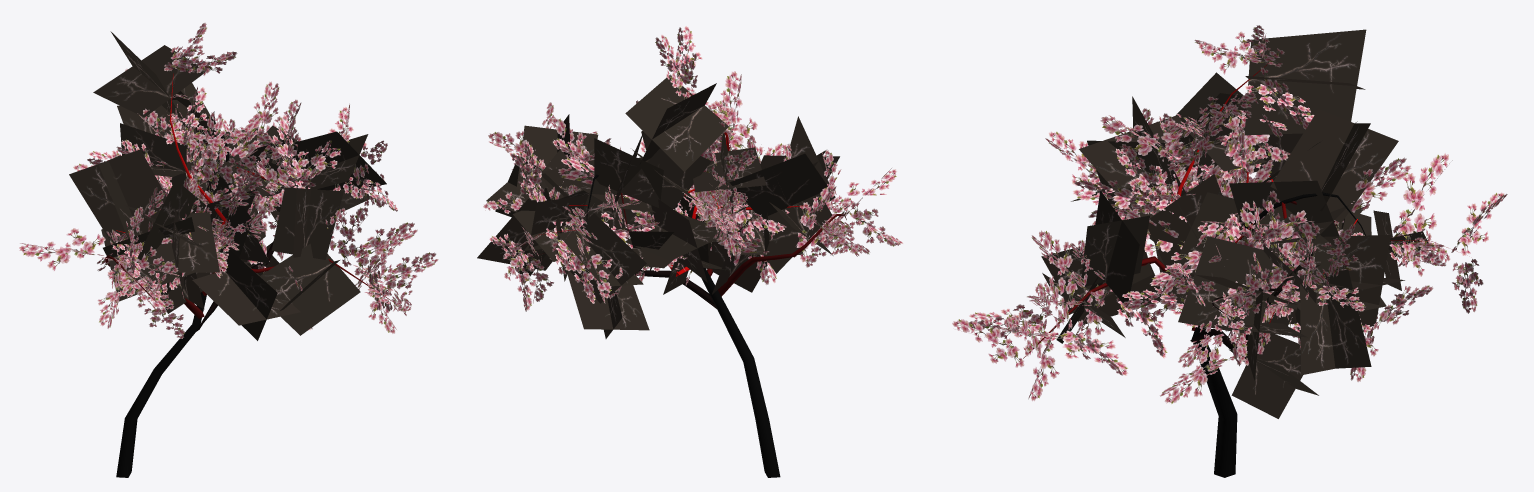
File: sakura2 lod1.FBX
3 views of the same model, side by side, from view 1: azimuth 30°, elevation 25°; view 2: azimuth 150°, elevation 25°; view 3: azimuth 270°, elevation 25° (orthographic). The views are drawn at different scales.
Visible parts, largest first — view 1: sakura2_LOD1; view 2: sakura2_LOD1; view 3: sakura2_LOD1.
Part boxes in pixels (bbox=[...]): sakura2_LOD1: bbox=[19, 22, 438, 477]; sakura2_LOD1: bbox=[477, 26, 903, 477]; sakura2_LOD1: bbox=[952, 25, 1507, 477].
Size of the model in its own units: 72574 by 79155 by 80611.
